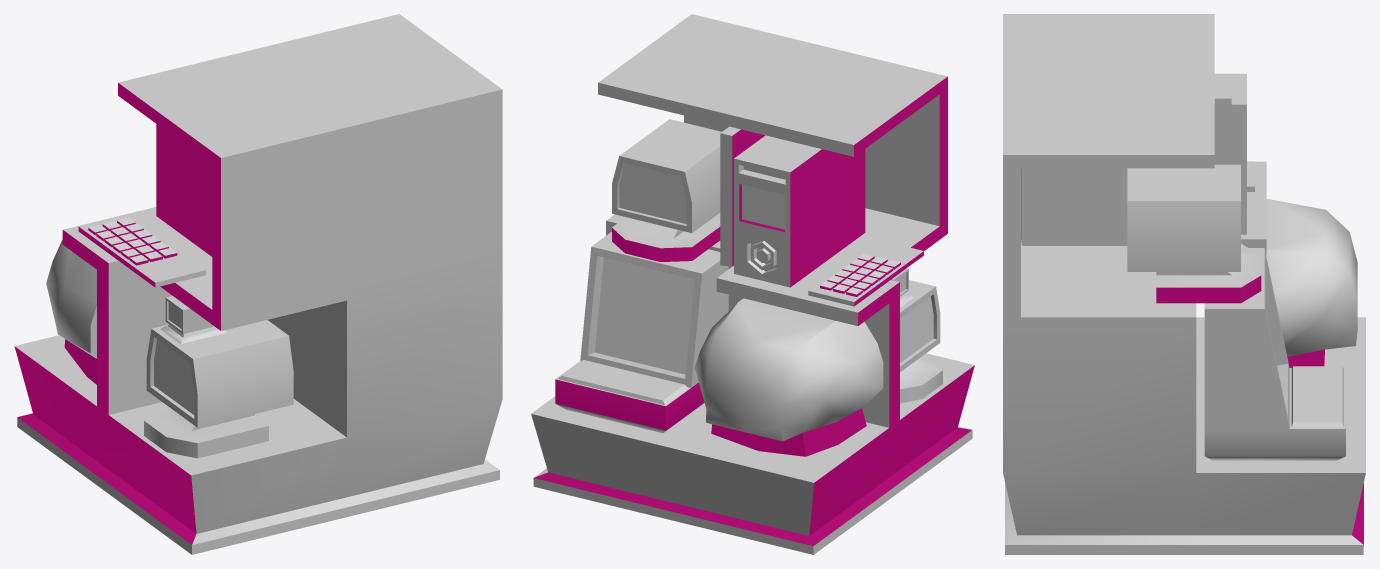
The picture shows the model from 3 angles, left to right: view 1: azimuth 30°, elevation 25°; view 2: azimuth 150°, elevation 25°; view 3: azimuth 270°, elevation 25°; orthographic projection. The views are drawn at different scales.
Parts seen in each view (by area): view 1: T1_BG1; view 2: T1_BG1; view 3: T1_BG1.
Part boxes in pixels (<box>): T1_BG1: <box>14,14,502,554</box>; T1_BG1: <box>531,14,974,554</box>; T1_BG1: <box>1003,14,1365,554</box>.
Bounding box in the file's own units: 0.983 × 0.9524 × 1.16.
